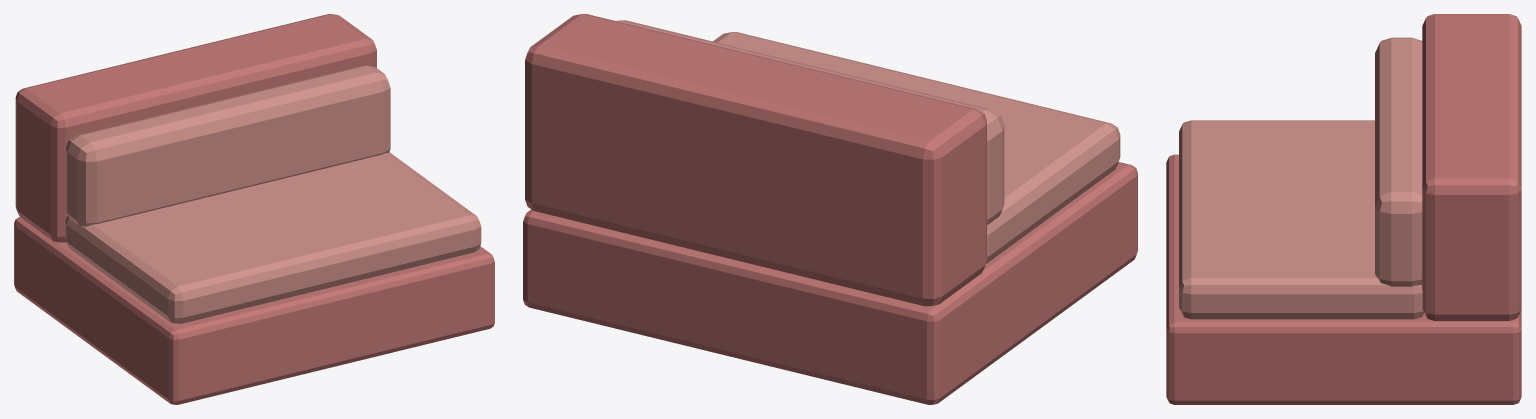
The model's file is sofa_middle.glb.
3 views of the same model, side by side, from view 1: azimuth 30°, elevation 25°; view 2: azimuth 150°, elevation 25°; view 3: azimuth 270°, elevation 25° (orthographic). The views are drawn at different scales.
Parts seen in each view (by area): view 1: sofa_middle; view 2: sofa_middle; view 3: sofa_middle.
Boxes of the visible parts, left/top/right/bottom form: sofa_middle: left=14, top=14, right=494, bottom=404; sofa_middle: left=523, top=14, right=1137, bottom=404; sofa_middle: left=1166, top=14, right=1521, bottom=404.
Size of the model in its own units: 1 by 0.6 by 0.86.
